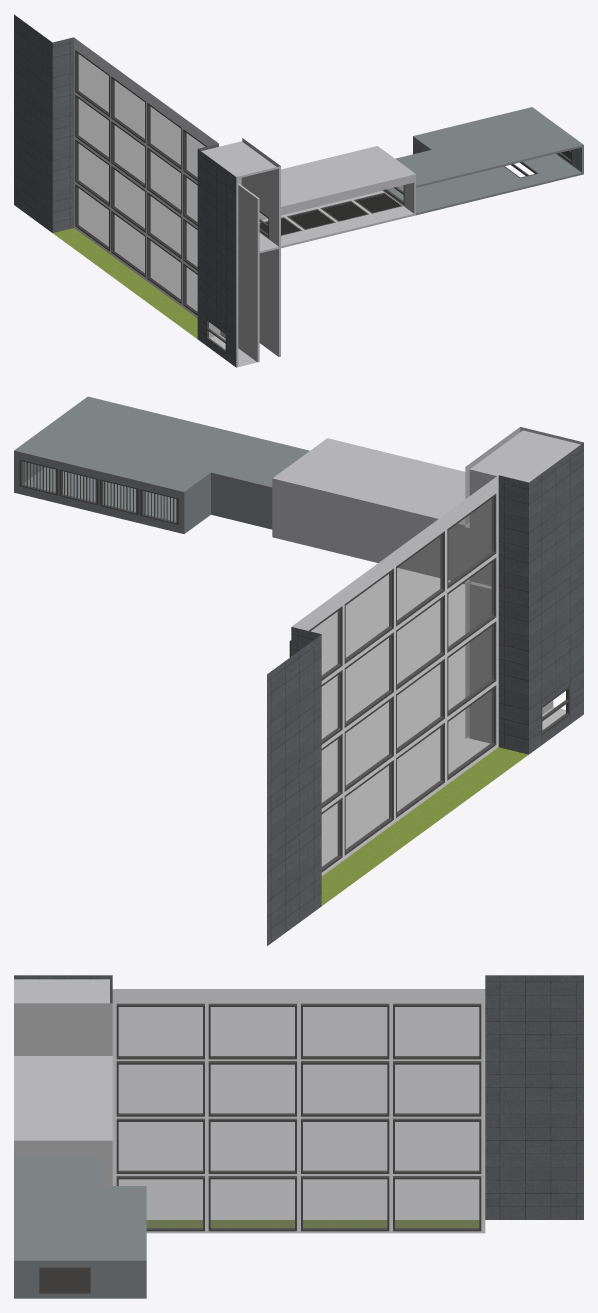
The model's file is UpBuilding.fbx.
The picture shows the model from 3 angles, top to bottom: view 1: azimuth 30°, elevation 25°; view 2: azimuth 150°, elevation 25°; view 3: azimuth 270°, elevation 25°; orthographic projection. The views are drawn at different scales.
Parts seen in each view (by area): view 1: Group1, Group105, Group9, Group39, Group48, Group6, Group15, Group33, Group36, Group3, Group18, Group24 (+6 smaller); view 2: Group1, Group105, Group6, Group45, Group18, Group21, Group30, Group12, Group27, Group42, Group9, Group15 (+18 smaller); view 3: Group1, Group105, Group39, Group42, Group45, Group48, Group3, Group6, Group9, Group27, Group30, Group33 (+23 smaller).
Boxes of the visible parts, left/top/right/bottom form: Group1: left=14, top=14, right=415, bottom=367; Group105: left=387, top=107, right=583, bottom=215; Group9: left=148, top=240, right=180, bottom=301; Group39: left=148, top=105, right=180, bottom=166; Group48: left=76, top=53, right=108, bottom=114; Group6: left=112, top=213, right=144, bottom=274; Group15: left=148, top=195, right=180, bottom=256; Group33: left=76, top=97, right=108, bottom=158; Group36: left=148, top=150, right=180, bottom=211; Group3: left=76, top=187, right=108, bottom=248; Group18: left=112, top=169, right=144, bottom=229; Group24: left=76, top=142, right=108, bottom=203; Group1: left=267, top=427, right=583, bottom=945; Group105: left=14, top=396, right=309, bottom=533; Group6: left=345, top=763, right=391, bottom=851; Group45: left=448, top=497, right=494, bottom=585; Group18: left=345, top=699, right=391, bottom=787; Group21: left=448, top=625, right=494, bottom=712; Group30: left=448, top=561, right=494, bottom=648; Group12: left=448, top=689, right=494, bottom=776; Group27: left=345, top=636, right=391, bottom=723; Group42: left=345, top=572, right=391, bottom=659; Group9: left=397, top=726, right=442, bottom=814; Group15: left=397, top=662, right=442, bottom=750; Group1: left=14, top=975, right=583, bottom=1233; Group105: left=14, top=1155, right=146, bottom=1298; Group39: left=210, top=1007, right=294, bottom=1056; Group42: left=303, top=1007, right=387, bottom=1056; Group45: left=118, top=1007, right=202, bottom=1056; Group48: left=395, top=1007, right=479, bottom=1056; Group3: left=395, top=1179, right=479, bottom=1228; Group6: left=303, top=1179, right=387, bottom=1228; Group9: left=210, top=1179, right=294, bottom=1228; Group27: left=303, top=1064, right=387, bottom=1113; Group30: left=118, top=1064, right=202, bottom=1113; Group33: left=395, top=1064, right=479, bottom=1113.
Size of the model in its own units: 26838 by 14058 by 29714.
